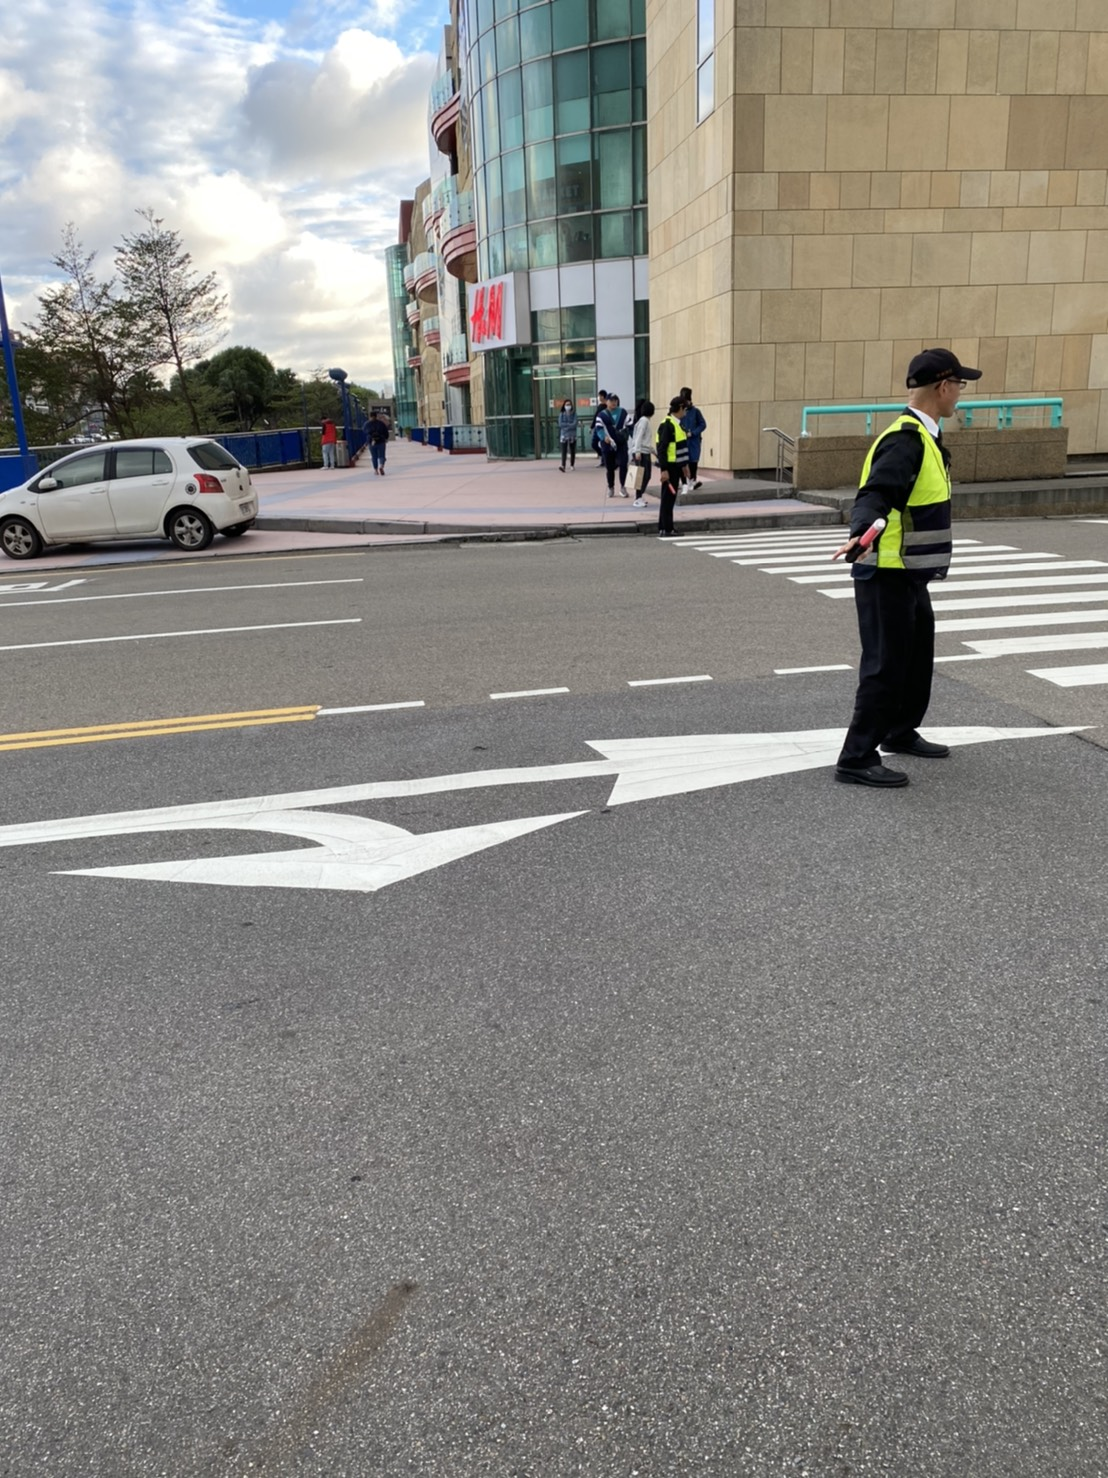people: (852, 343, 962, 778), (652, 402, 697, 523), (593, 393, 633, 493), (547, 407, 581, 469), (371, 407, 395, 481), (321, 409, 340, 473)
